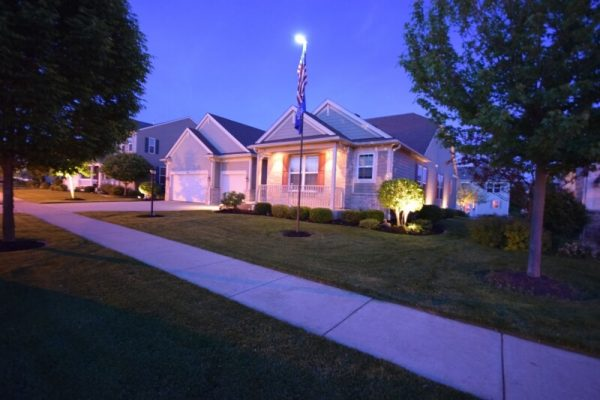Flag: (292, 44, 309, 134)
